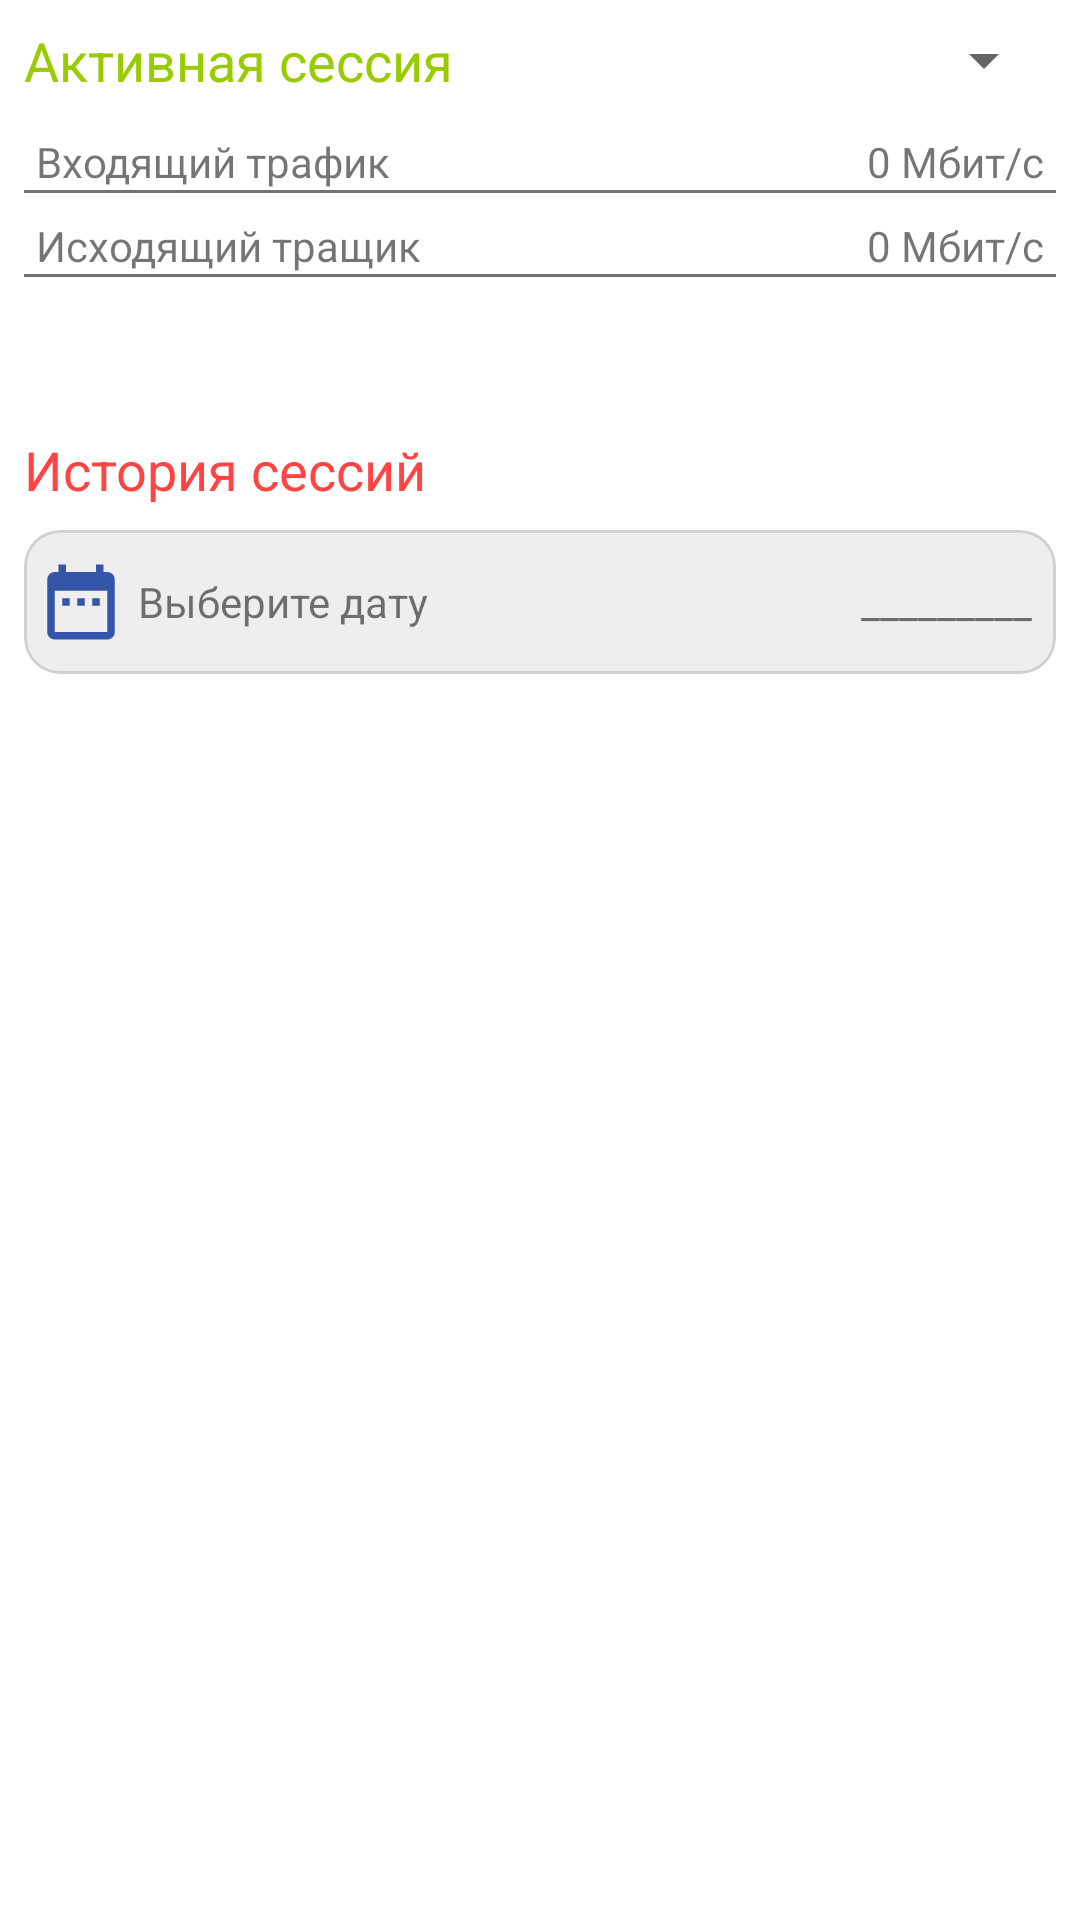

Icons on this 1080×1920 Android screen, each with its box as bbox=(x1, y1, x2, y2):
date: bbox=(47, 564, 115, 640)
